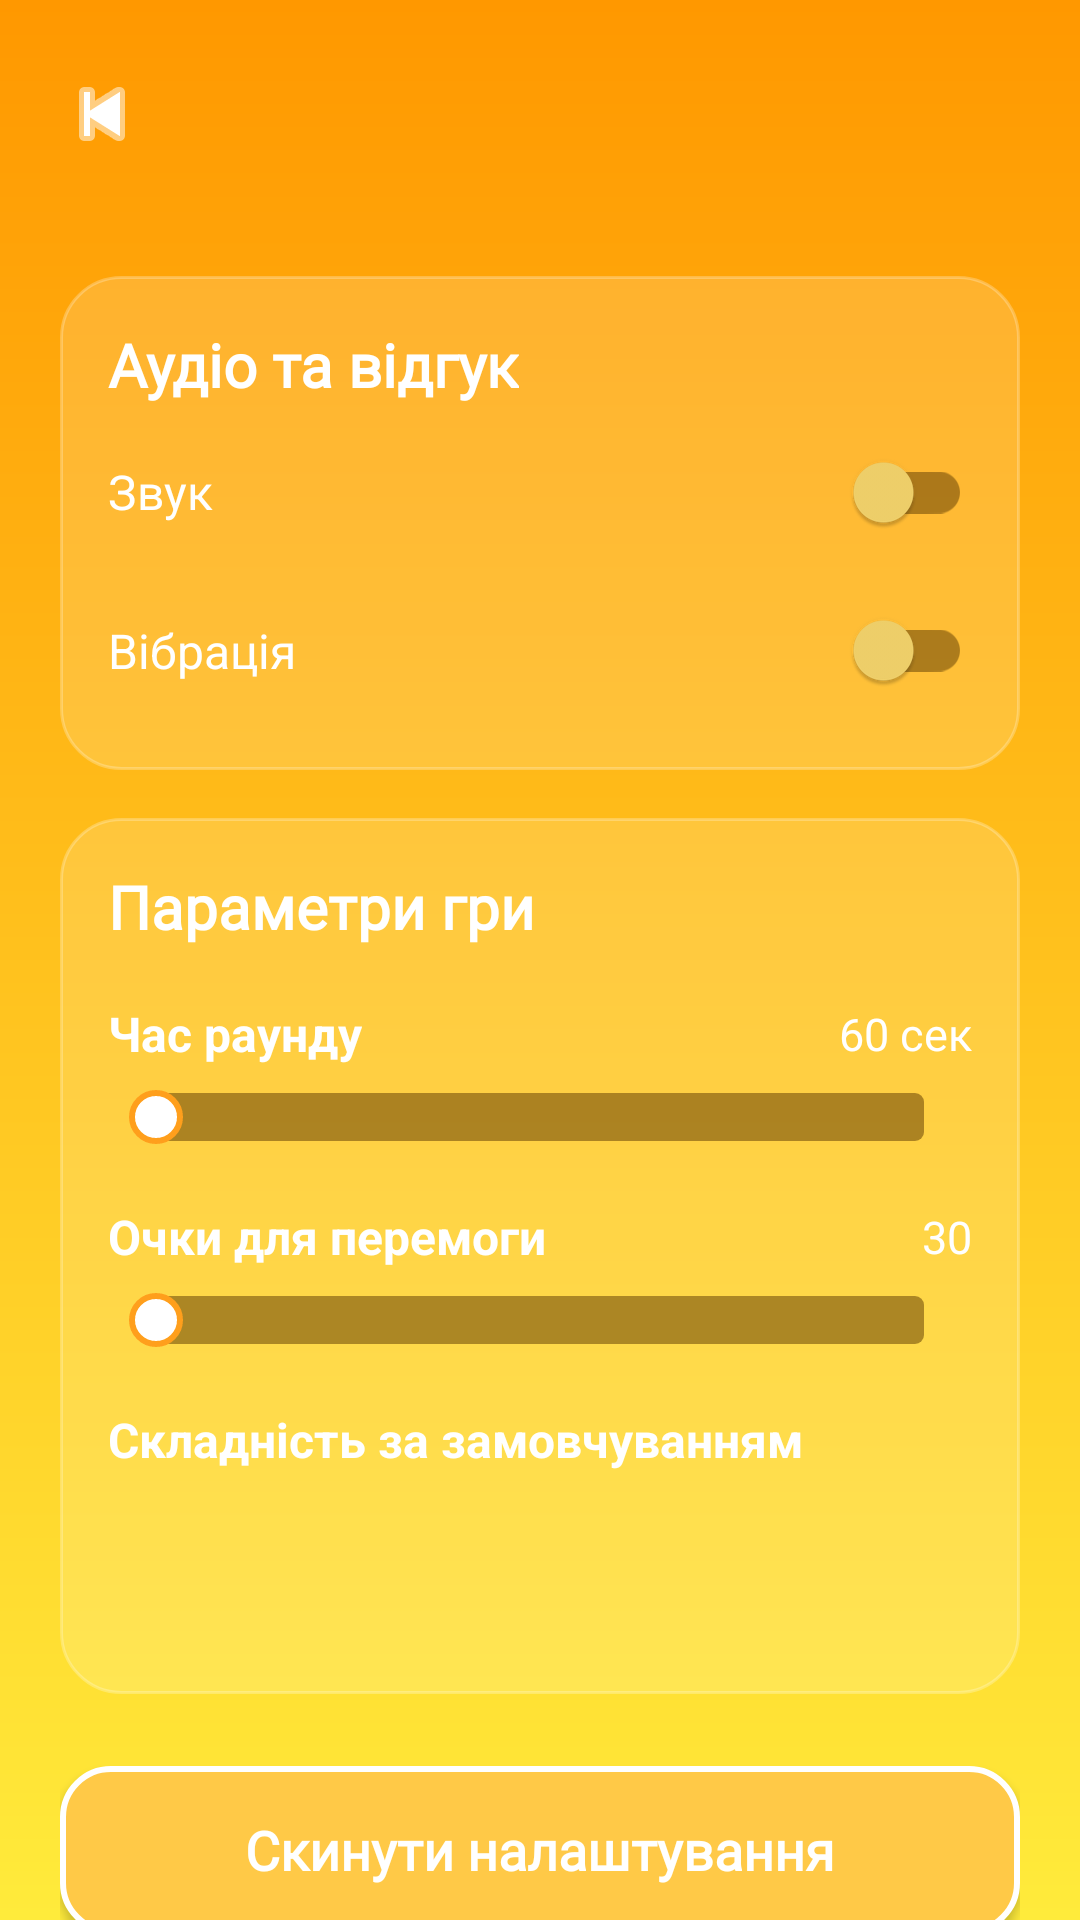

Screen size 1080×1920. Icon name, then its center in pixels as (x=x, y=y):
Назад: (x=102, y=114)
